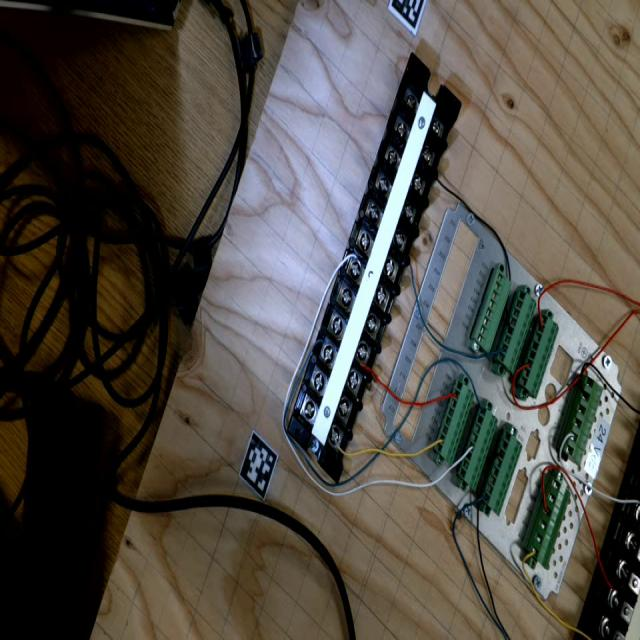Phillips_Block: (277, 52, 473, 484)
Terminal_1: (525, 475, 574, 570), (560, 375, 606, 466)
Terminal_2: (454, 403, 502, 492), (478, 428, 526, 517), (493, 286, 540, 375), (431, 378, 478, 466), (515, 312, 562, 398)
